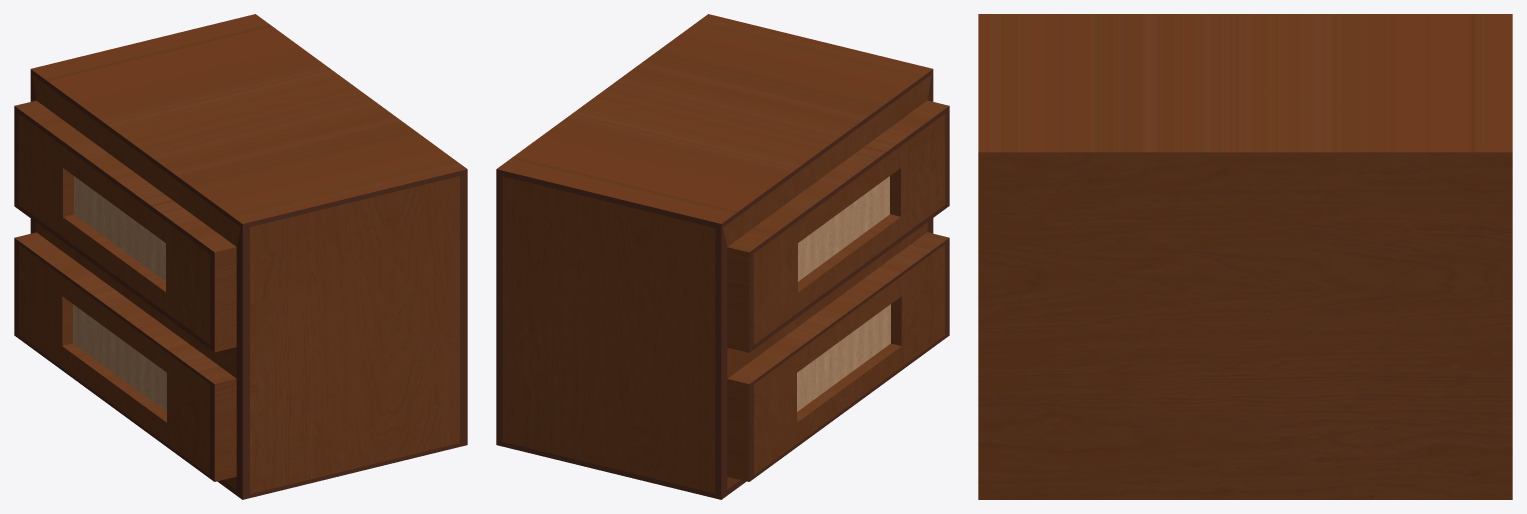
File: Dresser_Bedside.fbx
3 views of the same model, side by side, from view 1: azimuth 30°, elevation 25°; view 2: azimuth 150°, elevation 25°; view 3: azimuth 270°, elevation 25° (orthographic). The views are drawn at different scales.
Parts seen in each view (by area): view 1: Bedside_Table; view 2: Bedside_Table; view 3: Bedside_Table.
Part boxes in pixels (x1,y1,x2,y2): Bedside_Table: (14, 14, 467, 499); Bedside_Table: (496, 14, 949, 499); Bedside_Table: (978, 14, 1512, 499).
Size of the model in its own units: 92.25 by 98.45 by 137.
